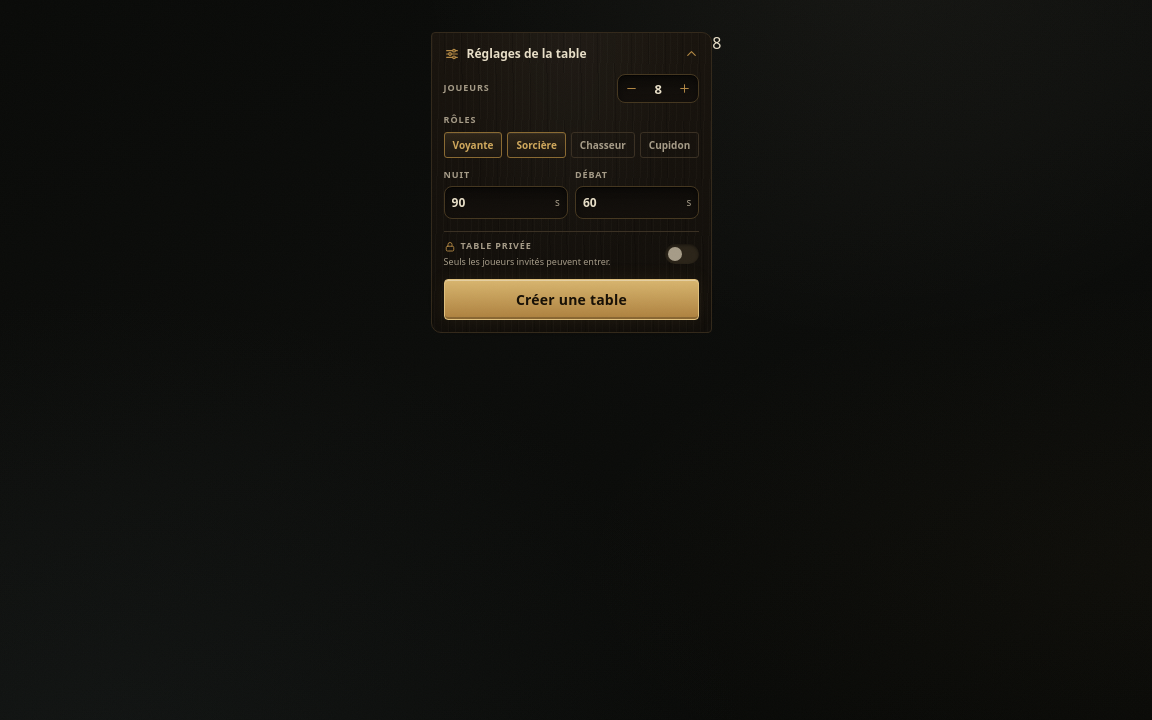
it: TableSettingsCard › valide les durées à la sortie du champ
Replace the text in the number field named "Nuit en secondes" with "120" at (501,202), box [452, 187, 551, 218]
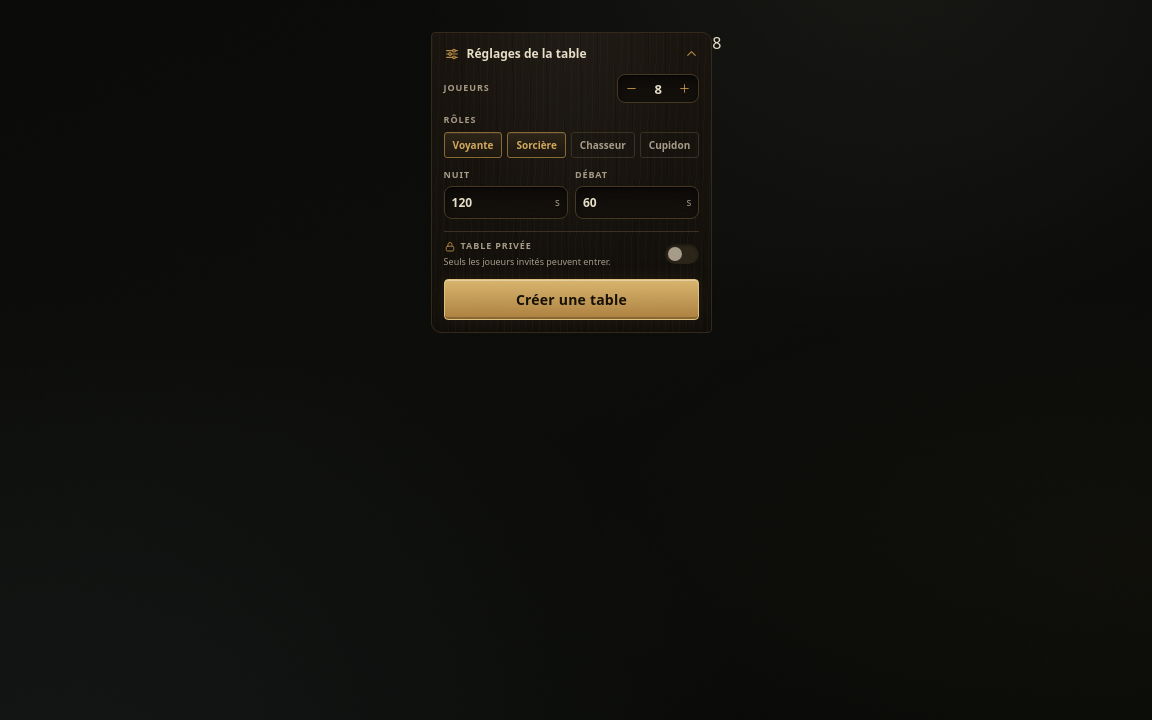
Replace the text in the number field named "Nuit en secondes" with "999" at (501,202), box [452, 187, 551, 218]
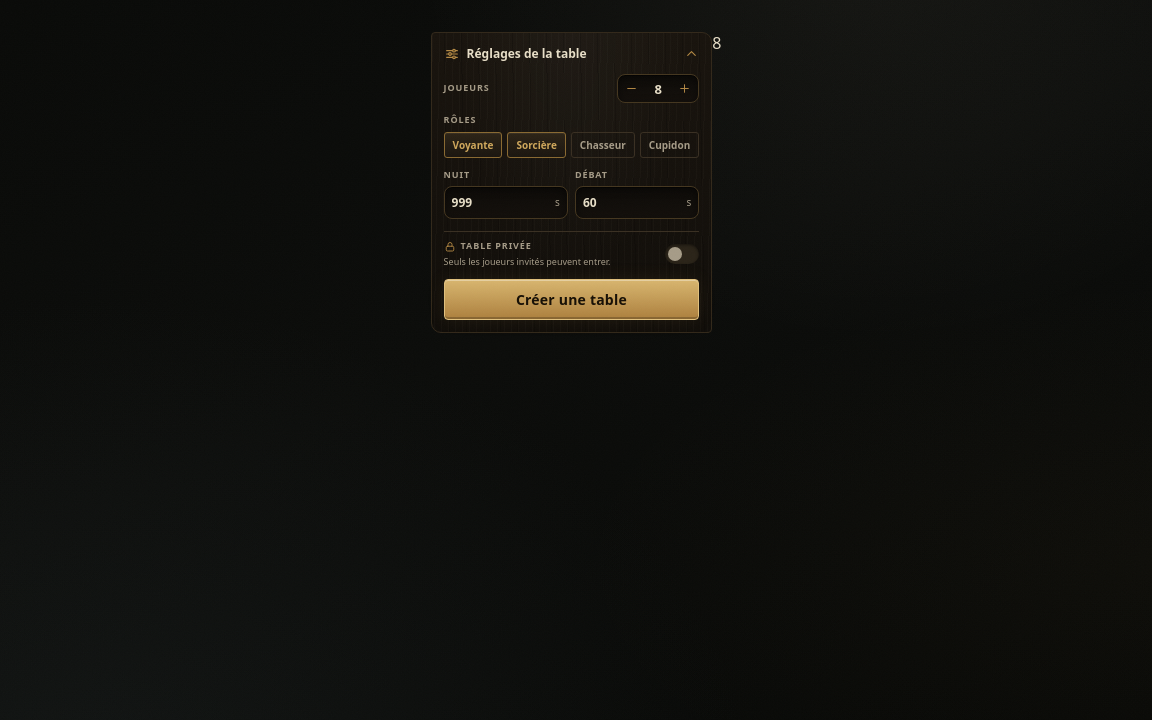
Leave the number field named "Nuit en secondes", box [452, 187, 551, 218]
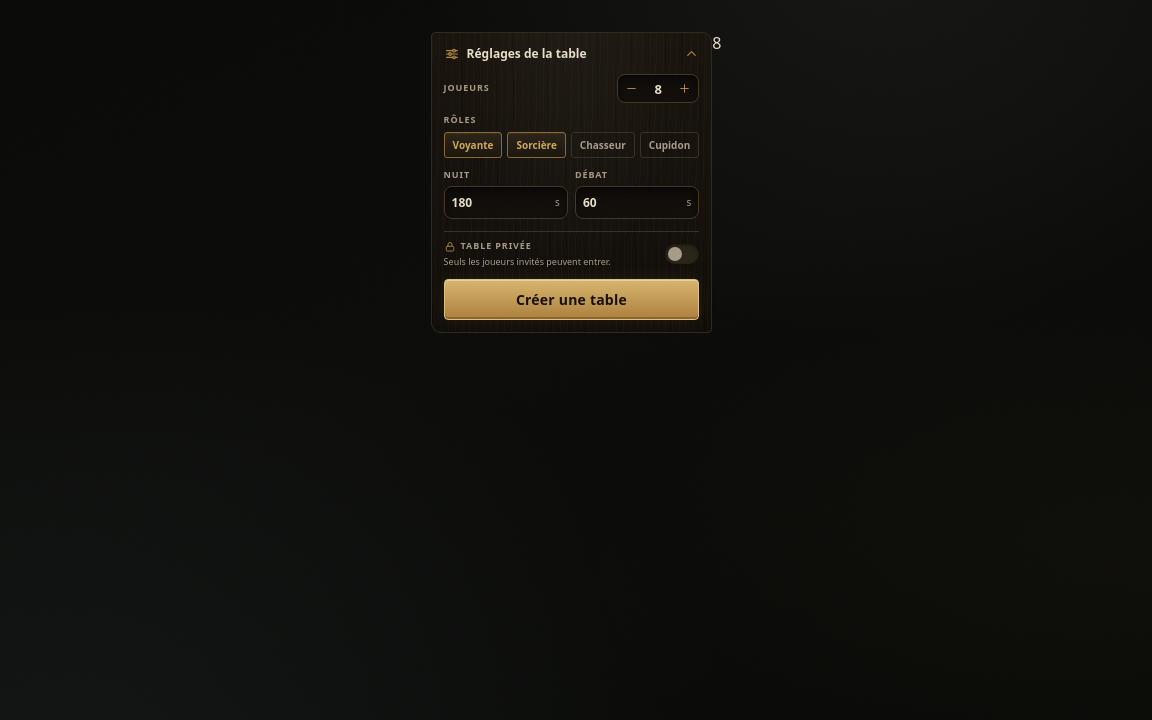
Check: the number field named "Nuit en secondes" holds "180", box [452, 187, 551, 218]
